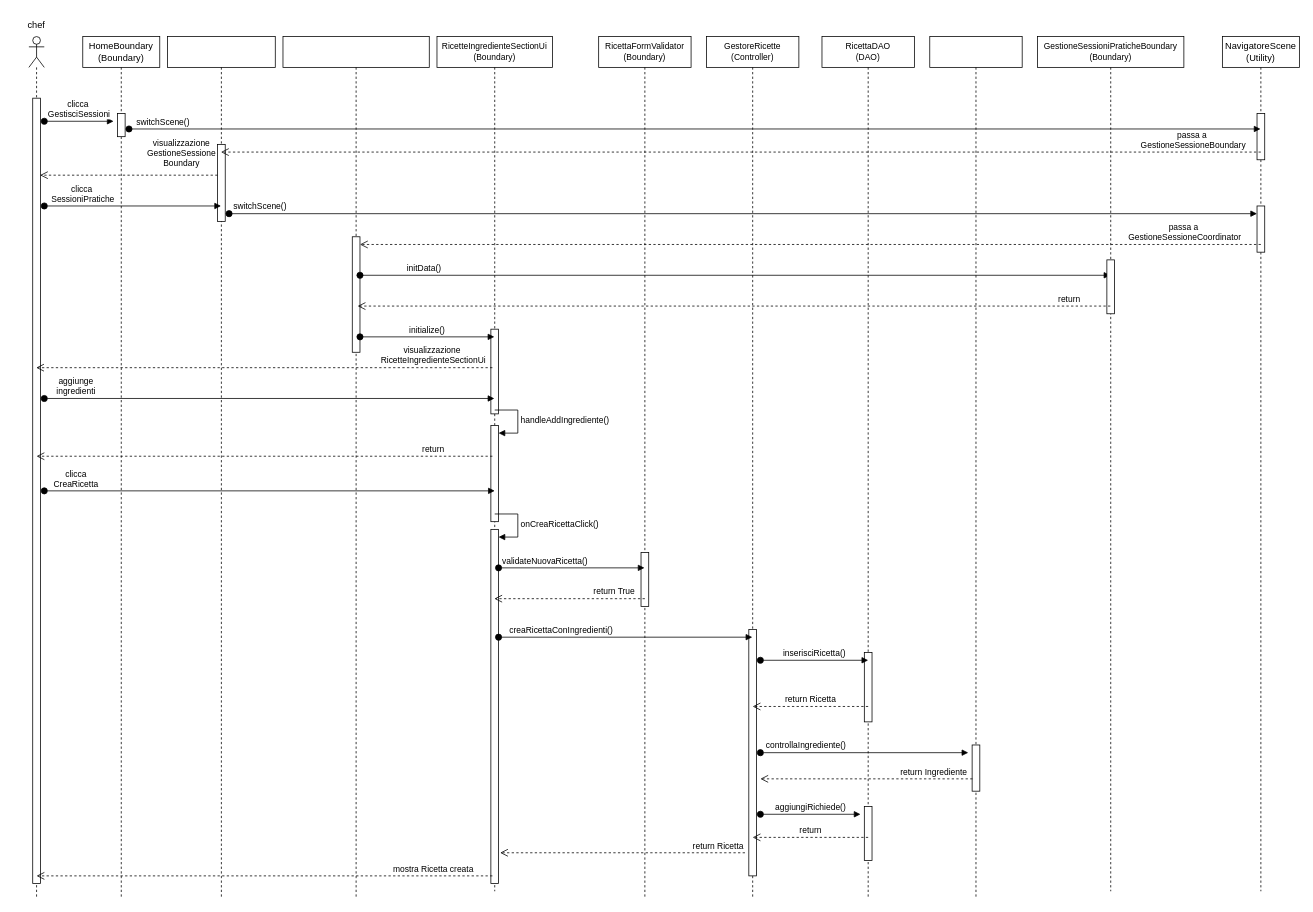
Image size: 1313x912. Some labels were removed from this diagram. The shapes that lost their labels are listed below. From the top down, each one's box as (x1, y1, x2, y2) in pixels, then its label:
(167, 36, 275, 899): GestioneSessioniBoundary (Boundary)
(282, 36, 429, 899): GestioneSessioniPraticheCoordinator (Boundary)
(929, 36, 1022, 899): IngredienteDAO (DAO)
